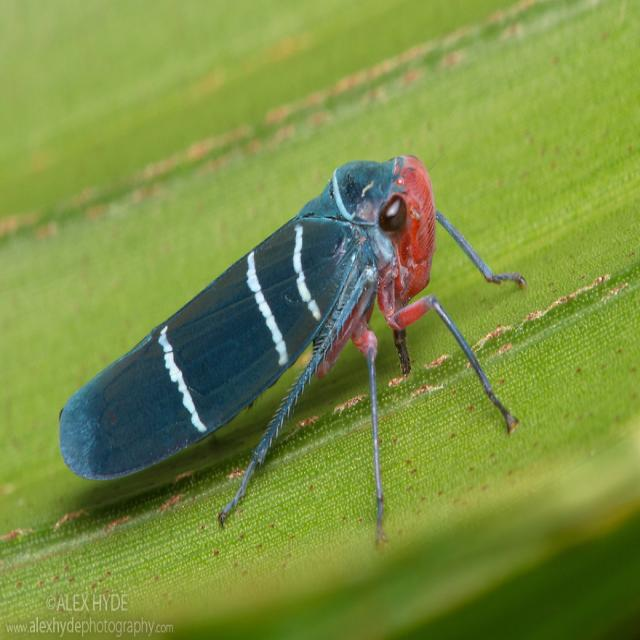Yechan: (51, 146, 534, 539)
